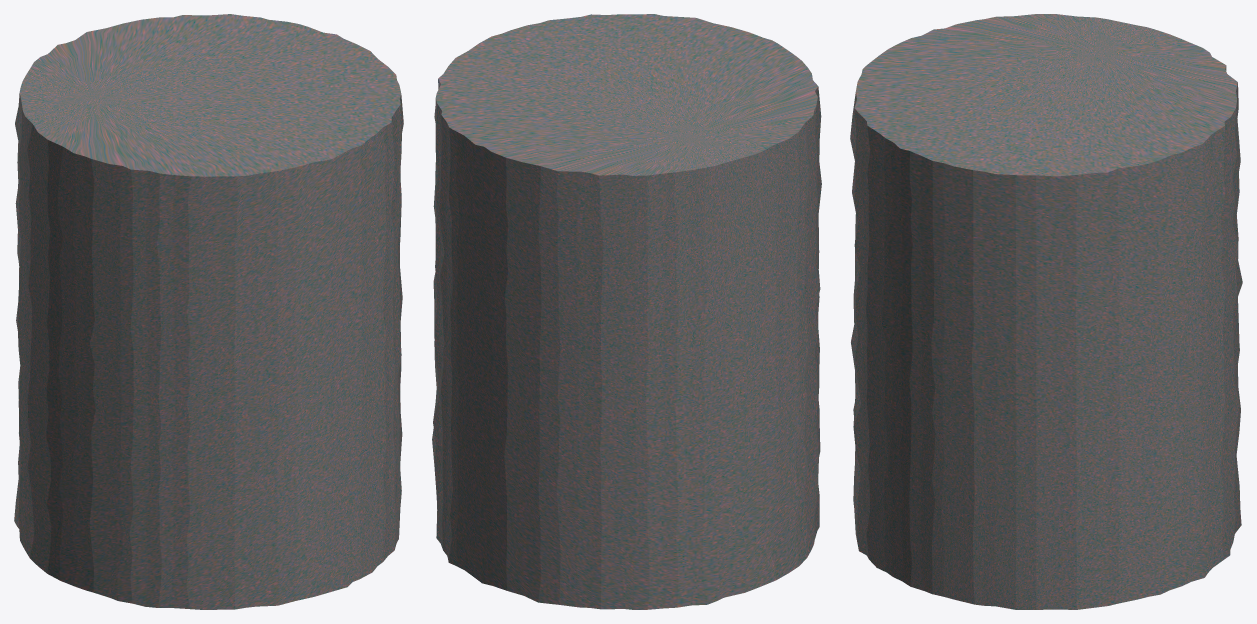
Rendered from barrel_5.dae.
3 views of the same model, side by side, from view 1: azimuth 30°, elevation 25°; view 2: azimuth 150°, elevation 25°; view 3: azimuth 270°, elevation 25° (orthographic).
Parts seen in each view (by area): view 1: Cylinder; view 2: Cylinder; view 3: Cylinder.
Boxes of the visible parts, bbox=[...] form: Cylinder: bbox=[14, 14, 403, 609]; Cylinder: bbox=[432, 14, 821, 609]; Cylinder: bbox=[850, 14, 1242, 609].
Size of the model in its own units: 0.8171 by 0.8198 by 1.
1 material, 1 textured.
